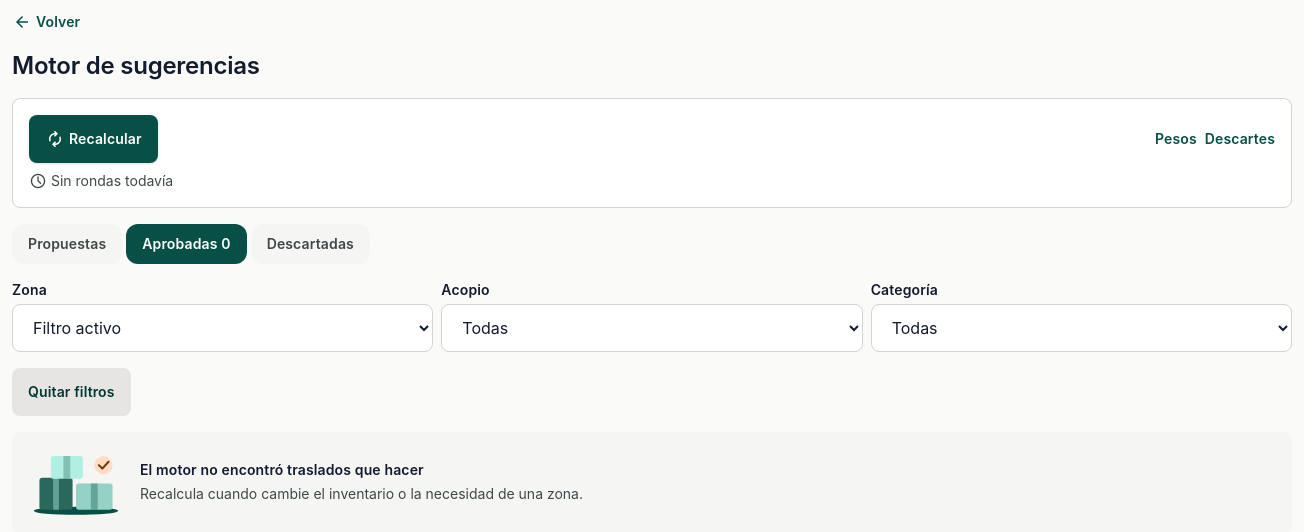
Test case: un filtro que ya no tiene sugerencias se ve y se puede quitar
The width and height of the screenshot is (1304, 532).
Click the button "Quitar filtros". click: click(71, 392)
box: [12,368,131,416]
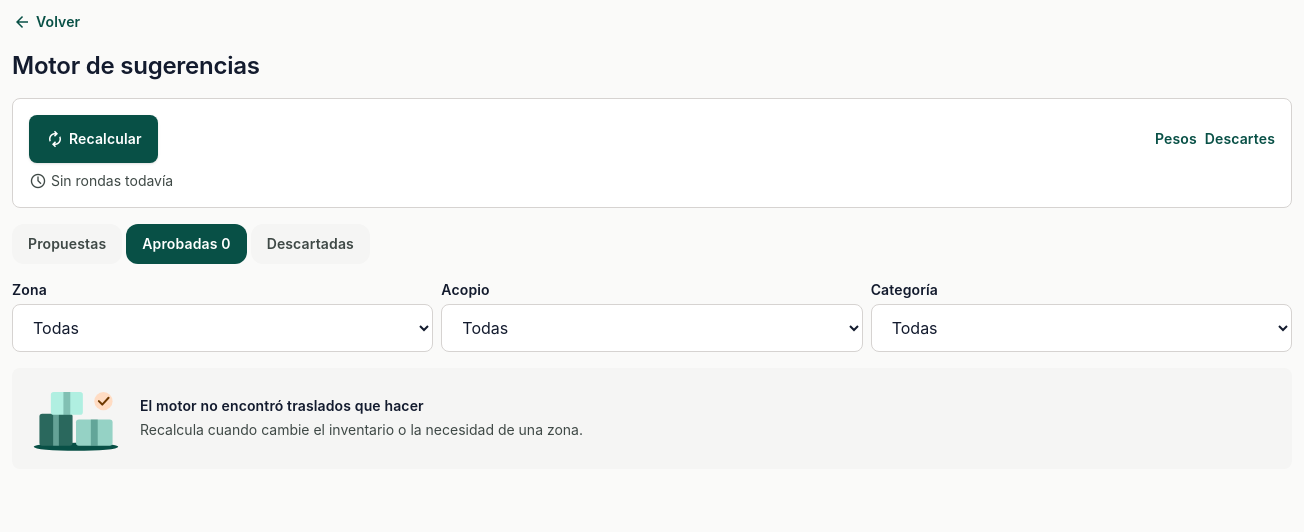
Now the dropdown labelled "Zona" shows "Todas", box [12,304,433,352]
